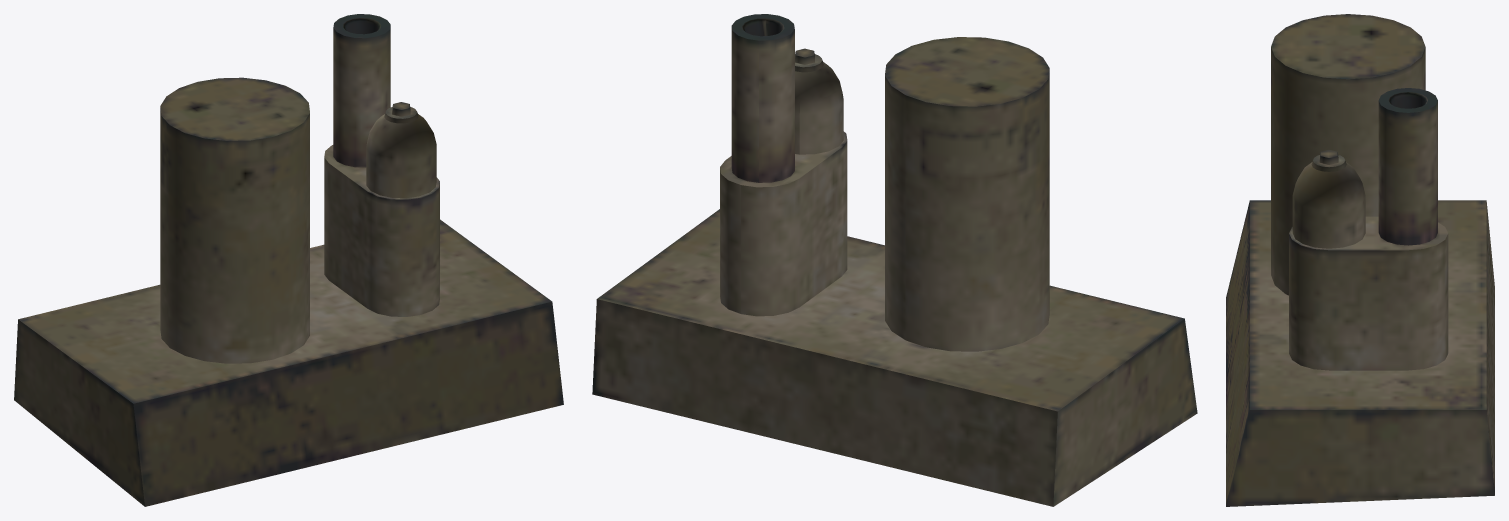
File: Gun_02.glb
3 views of the same model, side by side, from view 1: azimuth 30°, elevation 25°; view 2: azimuth 150°, elevation 25°; view 3: azimuth 270°, elevation 25° (orthographic). The views are drawn at different scales.
Parts seen in each view (by area): view 1: set_0_group_0; view 2: set_0_group_0; view 3: set_0_group_0.
Part boxes in pixels (x1,y1,x2,y2): set_0_group_0: (14, 14, 563, 506); set_0_group_0: (592, 14, 1197, 506); set_0_group_0: (1226, 14, 1494, 506).
Size of the model in its own units: 0.6609 by 0.5144 by 0.3581.
1 material, 1 textured.
